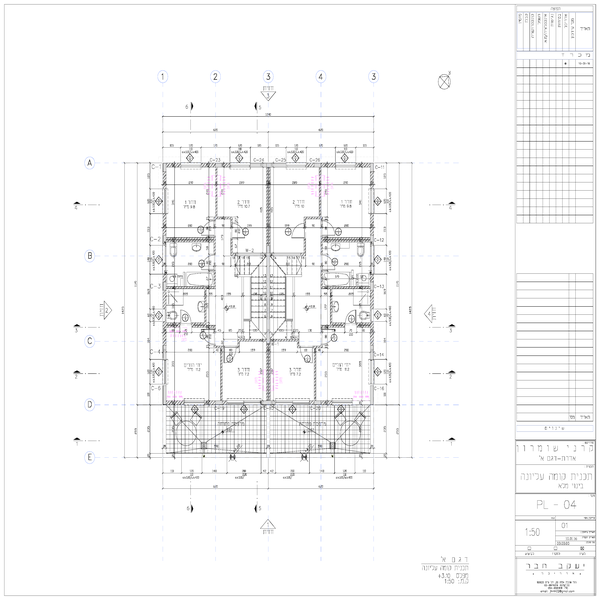room: (214, 154, 275, 260), (318, 324, 378, 410), (163, 318, 225, 401), (154, 155, 225, 226), (267, 166, 320, 261), (317, 157, 374, 243), (220, 332, 281, 403), (266, 334, 321, 404), (162, 231, 218, 288), (318, 237, 377, 289)
